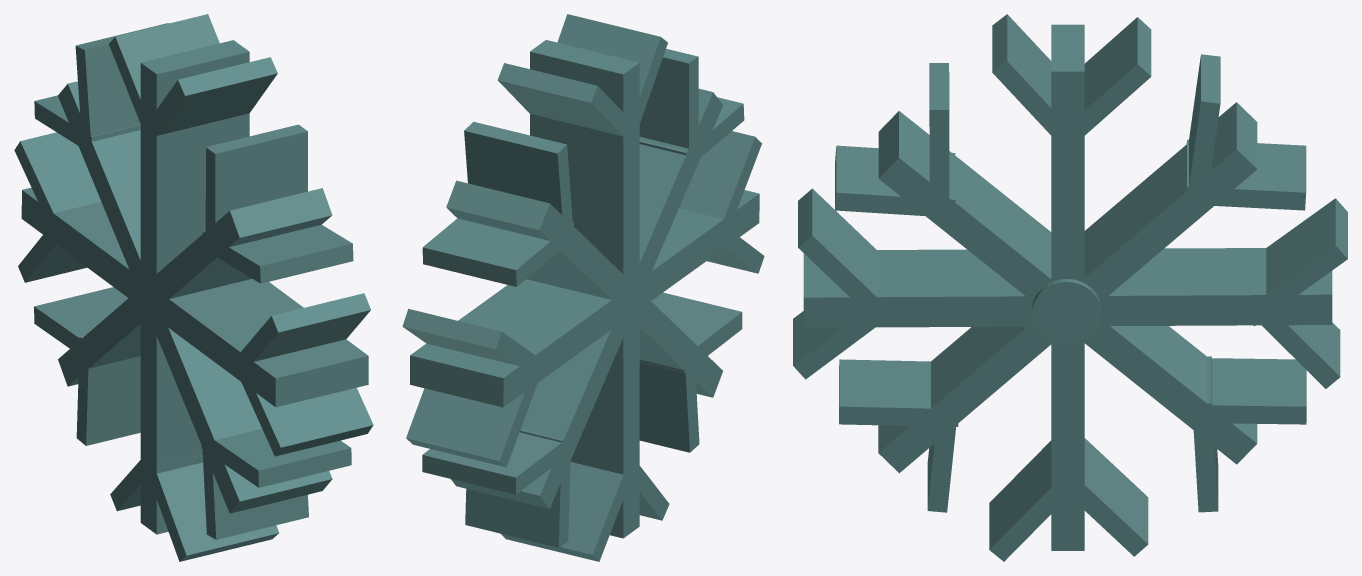
Rendered from WINTER(Icon).fbx.
3 views of the same model, side by side, from view 1: azimuth 30°, elevation 25°; view 2: azimuth 150°, elevation 25°; view 3: azimuth 270°, elevation 25° (orthographic). The views are drawn at different scales.
Parts seen in each view (by area): view 1: SnowflakeDecal, Cube.005, Cube.003, Cube.004, Cube.008, Cube.006, Cube.010, Cube.015, Cube.016, Cube.009, Cube.018, Cube.011 (+8 smaller); view 2: SnowflakeDecal, Cube.005, Cube.004, Cube.003, Cube.021, Cube.019, Cube.020, Cube.007, Cube.014, Cube.016, Cube.008, Cube.013 (+8 smaller); view 3: Cube.005, Cube.003, Cube.004, SnowflakeDecal, Cube.017, Cube.018, Cube.012, Cube.011, Cube.007, Cube.006, Cube.014, Cube.020 (+9 smaller).
Part boxes in pixels (<box>): SnowflakeDecal: <box>140,40,249,534</box>; Cube.005: <box>21,187,368,407</box>; Cube.003: <box>58,81,332,513</box>; Cube.004: <box>58,188,332,386</box>; Cube.008: <box>205,124,307,231</box>; Cube.006: <box>141,57,277,147</box>; Cube.010: <box>235,351,373,456</box>; Cube.015: <box>141,450,278,561</box>; Cube.016: <box>76,335,140,445</box>; Cube.009: <box>203,224,353,283</box>; Cube.018: <box>14,132,101,247</box>; Cube.011: <box>235,293,370,374</box>; SnowflakeDecal: <box>530,40,639,538</box>; Cube.005: <box>410,190,759,407</box>; Cube.004: <box>451,88,722,508</box>; Cube.003: <box>446,180,722,397</box>; Cube.021: <box>464,121,574,247</box>; Cube.019: <box>406,356,545,467</box>; Cube.020: <box>422,218,573,286</box>; Cube.007: <box>497,63,638,145</box>; Cube.014: <box>501,453,639,561</box>; Cube.016: <box>465,429,571,547</box>; Cube.008: <box>639,48,698,167</box>; Cube.013: <box>639,344,699,452</box>; Cube.005: <box>803,248,1332,327</box>; Cube.003: <box>878,102,1257,473</box>; Cube.004: <box>878,111,1257,464</box>; SnowflakeDecal: <box>1051,24,1084,550</box>; Cube.017: <box>1187,358,1306,424</box>; Cube.018: <box>1242,198,1347,326</box>; Cube.012: <box>839,359,958,426</box>; Cube.011: <box>798,188,893,325</box>; Cube.007: <box>1052,17,1151,151</box>; Cube.006: <box>992,14,1083,154</box>; Cube.014: <box>1052,438,1148,556</box>; Cube.020: <box>1186,139,1306,210</box>.
Size of the model in its own units: 16.53 by 75.47 by 75.76.
